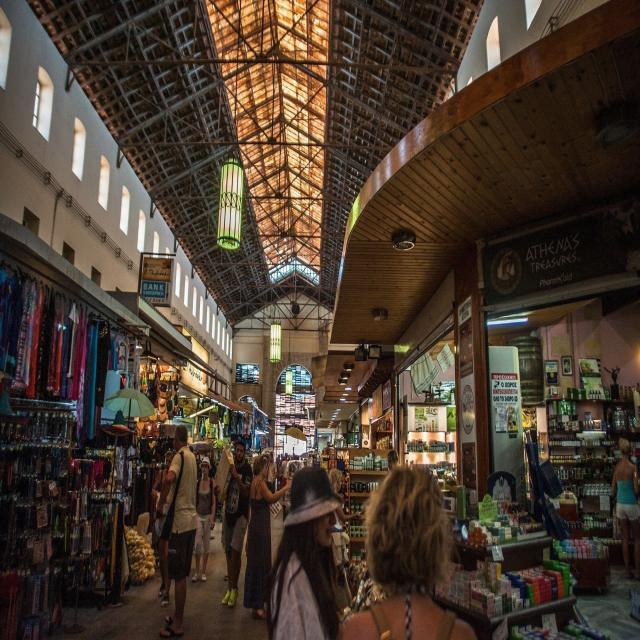body: (342, 463, 478, 640), (260, 458, 352, 640), (220, 429, 322, 593), (102, 426, 220, 542), (153, 422, 199, 640), (242, 452, 293, 622), (212, 434, 254, 610), (326, 468, 391, 568), (610, 437, 640, 581), (151, 450, 175, 610), (190, 453, 216, 584), (376, 445, 410, 489), (266, 452, 278, 495), (280, 452, 289, 490), (563, 359, 571, 372)
